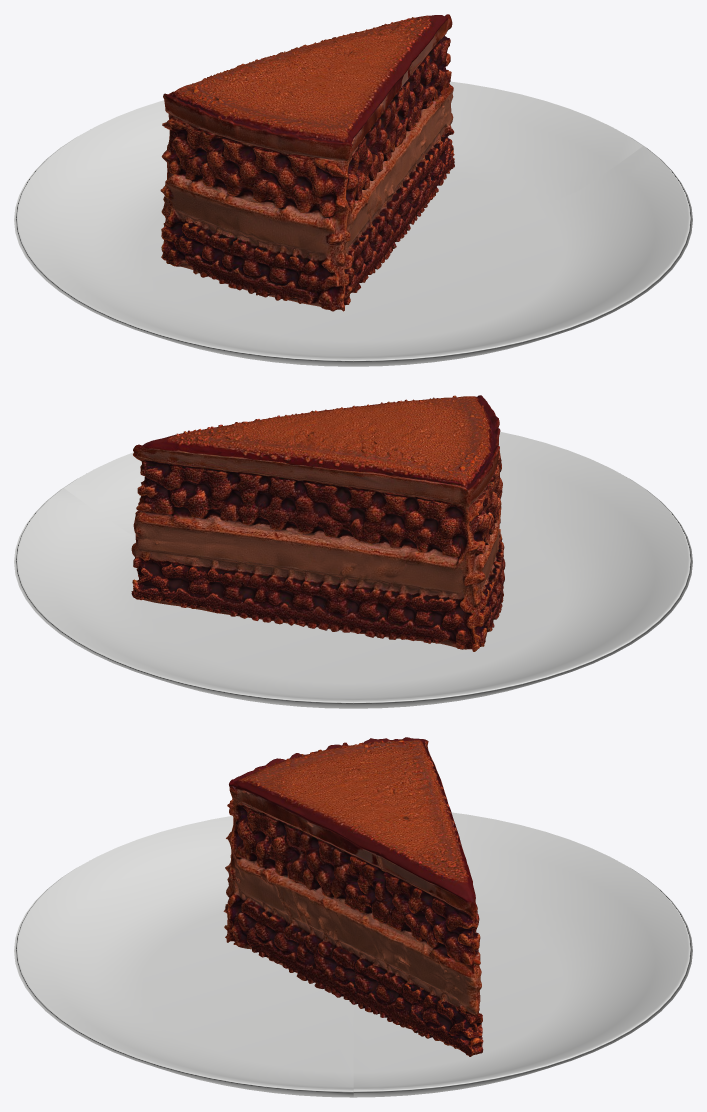
File: postre_pastel.glb
3 renders of one model, top to bottom at view 1: azimuth 30°, elevation 25°; view 2: azimuth 150°, elevation 25°; view 3: azimuth 270°, elevation 25°, orthographic.
Parts seen in each view (by area): view 1: plato, tripo_node_424df489-dc50-4736-9e20-6e79c28d7e29; view 2: plato, tripo_node_424df489-dc50-4736-9e20-6e79c28d7e29; view 3: plato, tripo_node_424df489-dc50-4736-9e20-6e79c28d7e29.
Boxes of the visible parts, left/top/right/bottom form: plato: left=14, top=81, right=692, bottom=366; tripo_node_424df489-dc50-4736-9e20-6e79c28d7e29: left=160, top=14, right=454, bottom=311; plato: left=14, top=432, right=692, bottom=708; tripo_node_424df489-dc50-4736-9e20-6e79c28d7e29: left=131, top=395, right=505, bottom=651; plato: left=14, top=812, right=692, bottom=1097; tripo_node_424df489-dc50-4736-9e20-6e79c28d7e29: left=223, top=737, right=483, bottom=1056.
Size of the model in its own units: 0.274 by 0.0861 by 0.274.
2 materials, 1 textured.
